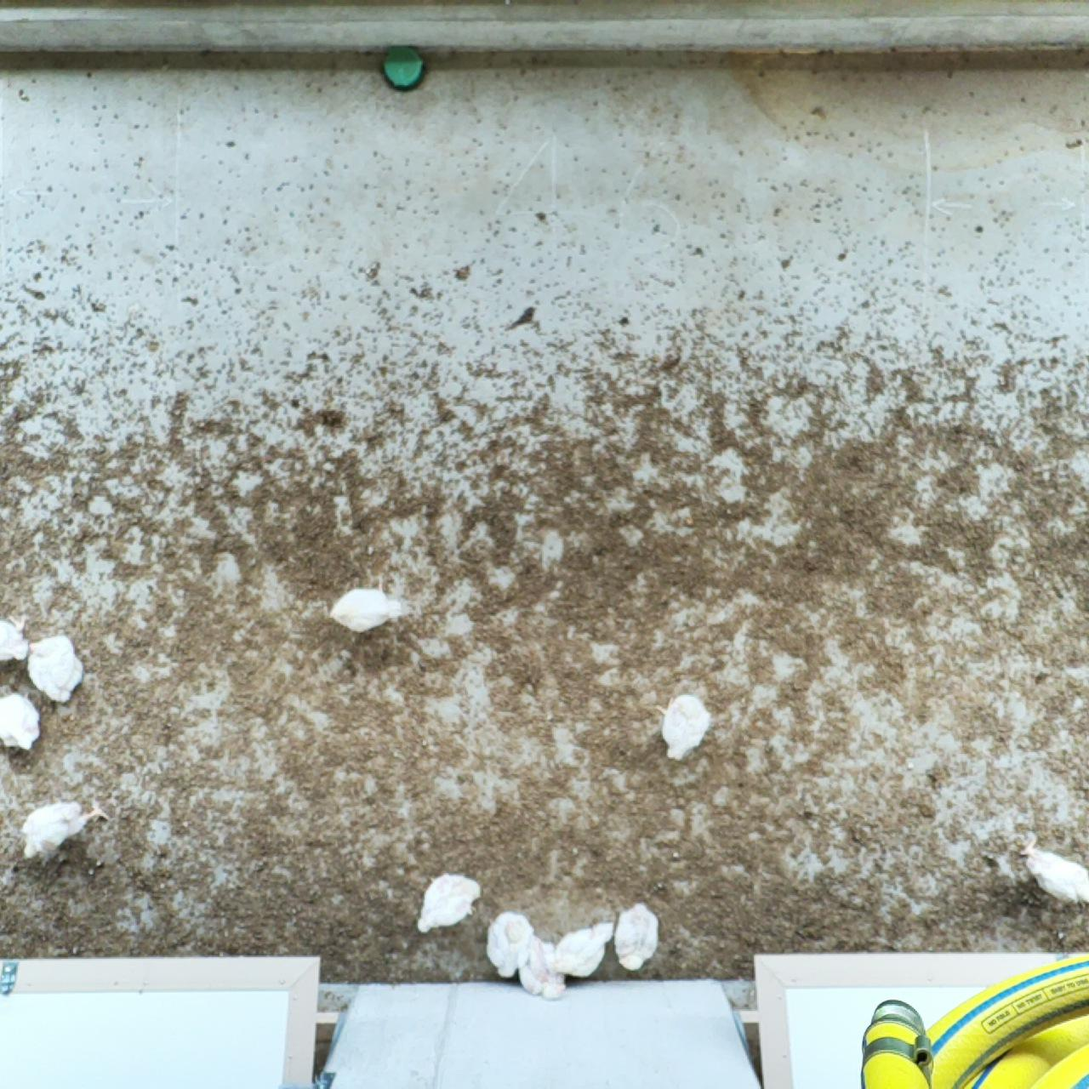chicken: (15, 793, 110, 863), (1014, 833, 1089, 908), (328, 573, 405, 635), (413, 871, 485, 936), (653, 688, 711, 766), (26, 633, 87, 707), (554, 917, 619, 980), (484, 908, 536, 981), (515, 932, 568, 1003), (613, 898, 662, 973), (0, 689, 43, 752), (0, 611, 31, 668)
